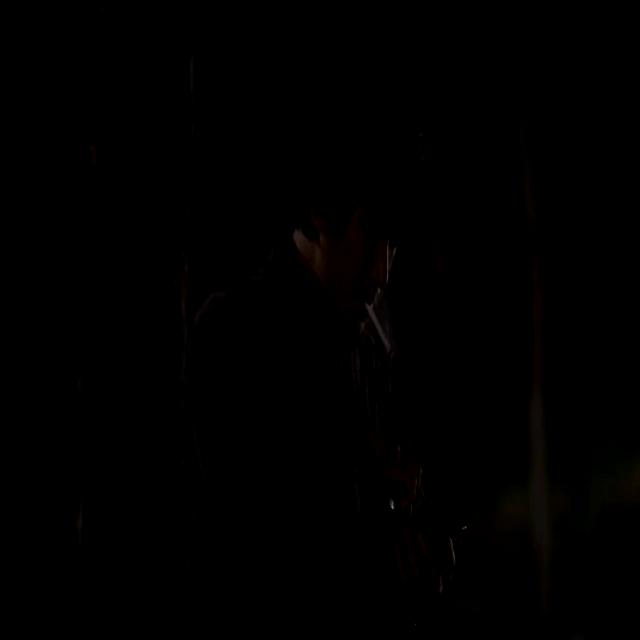Smooking: (364, 297, 399, 368)
